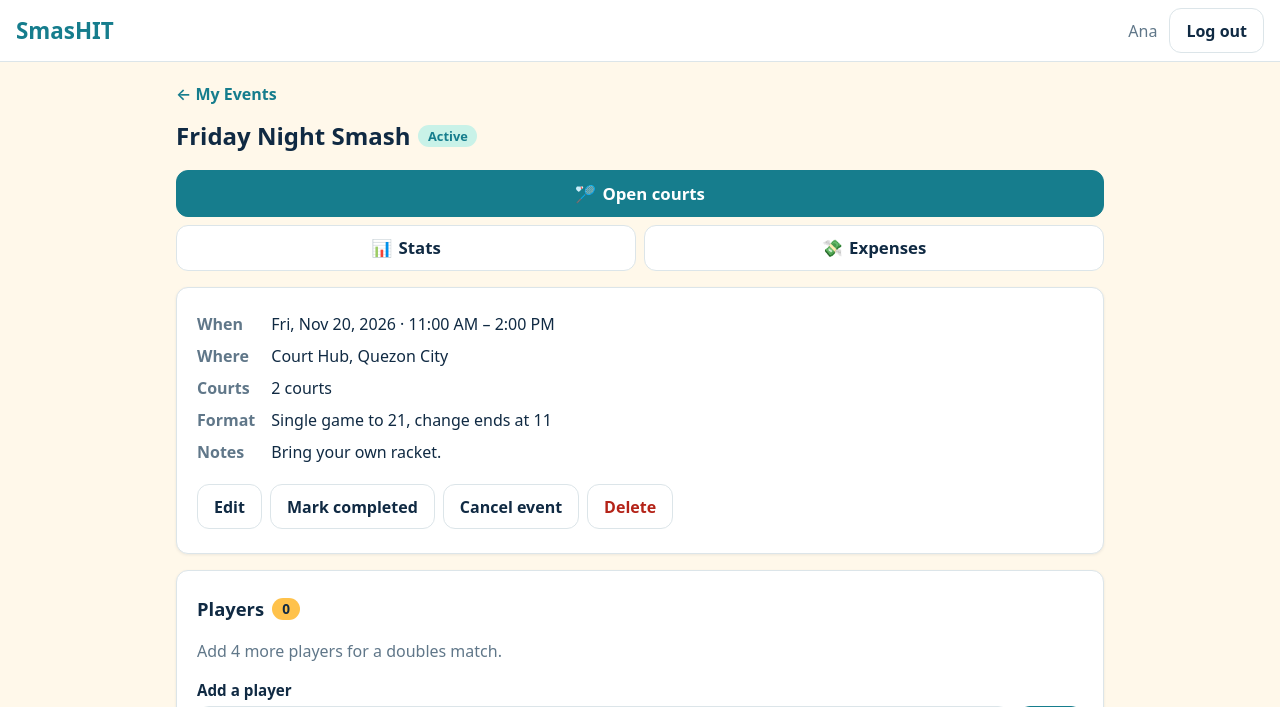
Test case: Event page › deletes the event and goes back to My Events
Click the button "Delete" at coordinates (630, 506), box [587,484,673,529]
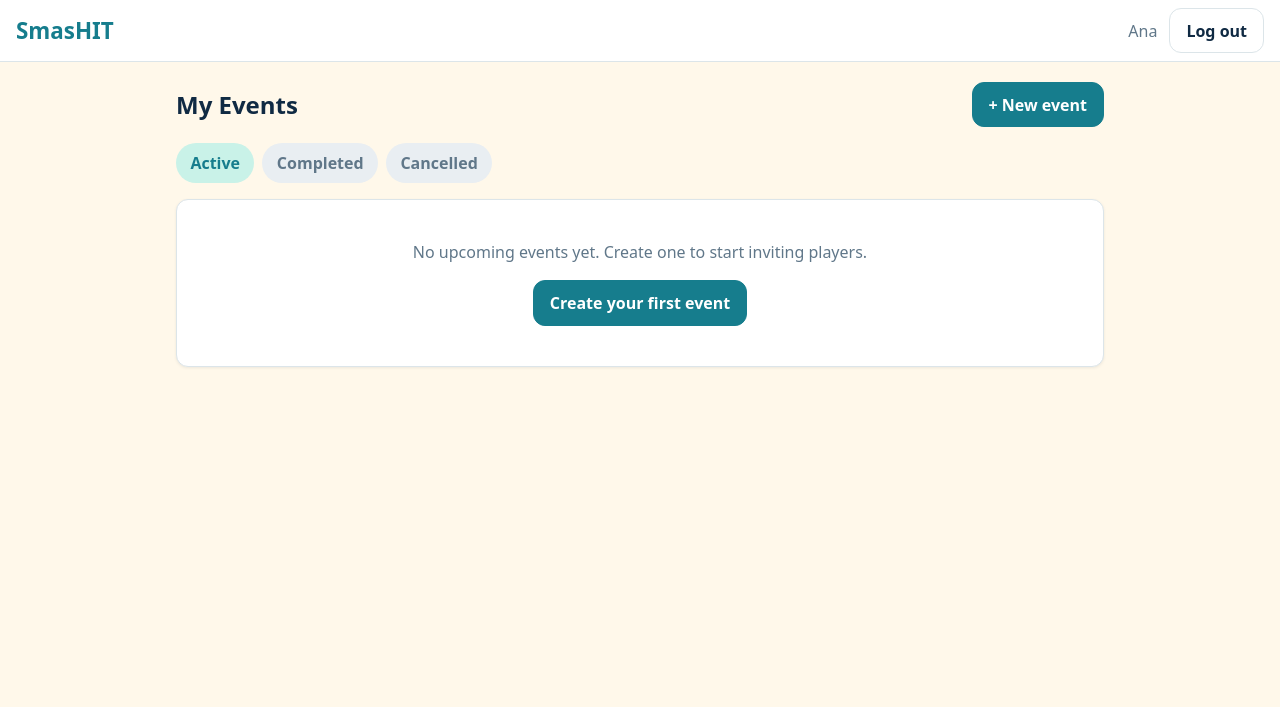
Expected: the heading "My Events" is shown, [176,87,298,123]
